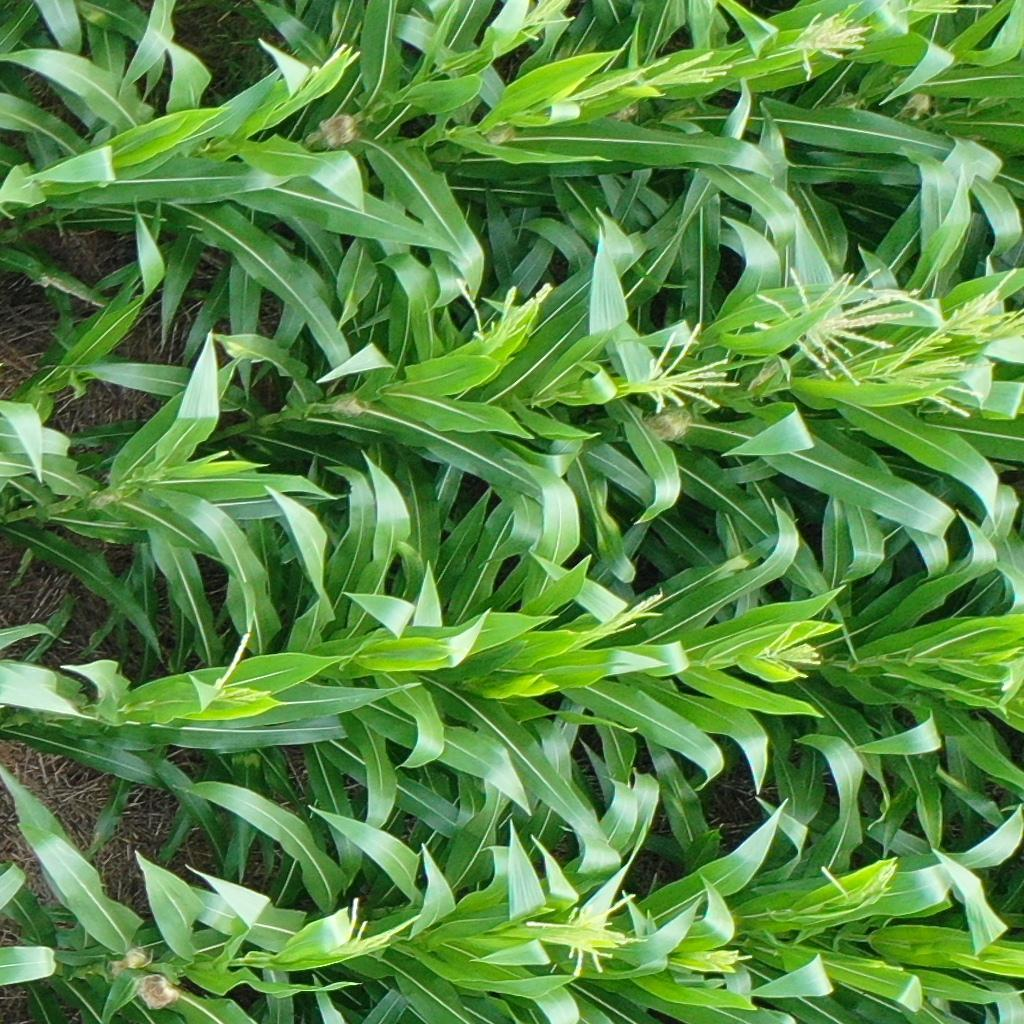Tassel: (882, 264, 1024, 417), (748, 265, 919, 387), (631, 320, 740, 416), (526, 892, 637, 975), (449, 277, 554, 350), (205, 631, 281, 708), (333, 895, 418, 963), (793, 10, 871, 83), (634, 51, 739, 95), (816, 861, 901, 911), (589, 585, 662, 643), (758, 618, 823, 683), (518, 1, 577, 46), (308, 41, 362, 82), (683, 943, 752, 973), (900, 1, 993, 23)
